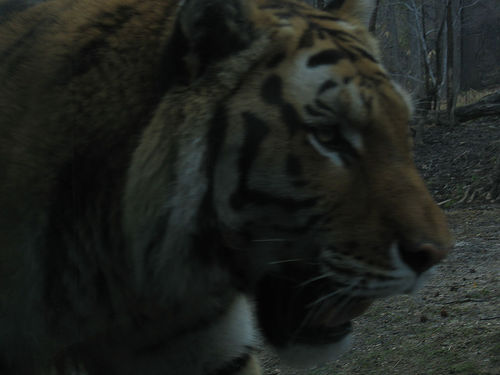Tigre: (176, 2, 450, 347)
